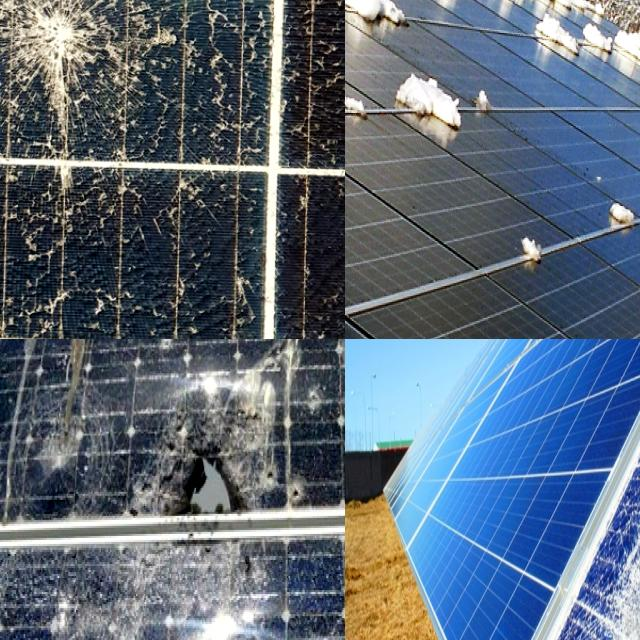hotspot: (0, 0, 160, 138), (532, 490, 640, 640), (157, 410, 267, 530), (127, 549, 272, 640), (14, 395, 102, 498), (33, 578, 114, 640), (0, 548, 35, 640)
panel: (393, 52, 462, 142), (540, 15, 620, 66), (411, 0, 500, 35), (511, 228, 562, 288), (492, 0, 595, 29), (472, 46, 508, 128), (345, 0, 422, 37), (602, 180, 640, 250), (345, 0, 413, 39), (345, 0, 388, 53), (345, 0, 392, 47), (345, 0, 394, 45), (345, 0, 403, 35), (345, 75, 377, 125), (619, 20, 640, 84)
